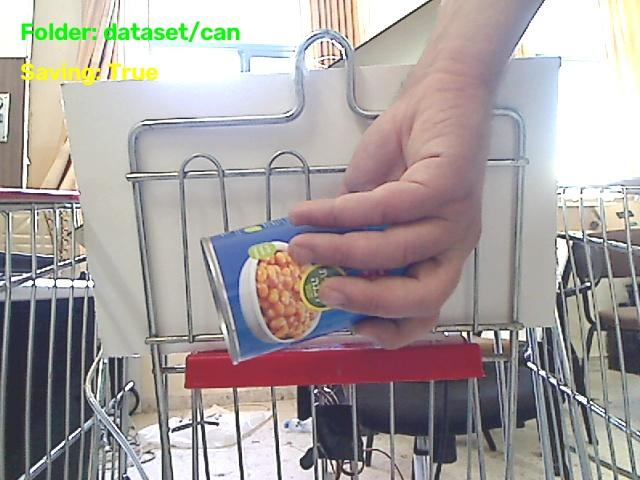can: (201, 219, 403, 362)
